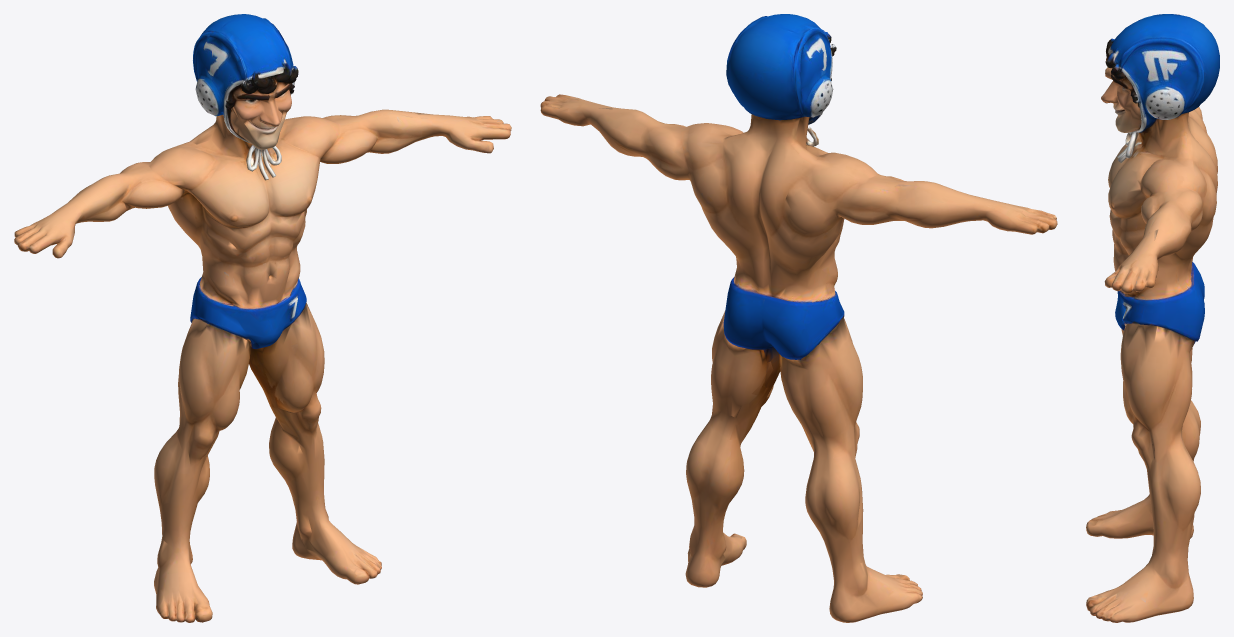
Rendered from player_base_LOD2.glb.
3 views of the same model, side by side, from view 1: azimuth 30°, elevation 25°; view 2: azimuth 150°, elevation 25°; view 3: azimuth 270°, elevation 25° (orthographic). The views are drawn at different scales.
Parts seen in each view (by area): view 1: player_base_LOD2; view 2: player_base_LOD2; view 3: player_base_LOD2.
Part boxes in pixels (left/top/right/bottom): player_base_LOD2: left=14, top=14, right=511, bottom=622; player_base_LOD2: left=540, top=14, right=1057, bottom=622; player_base_LOD2: left=1086, top=14, right=1219, bottom=622.
Bounding box in the file's own units: 1.67 × 1.8 × 0.3949.
Materials: 1 (1 with a texture image).
